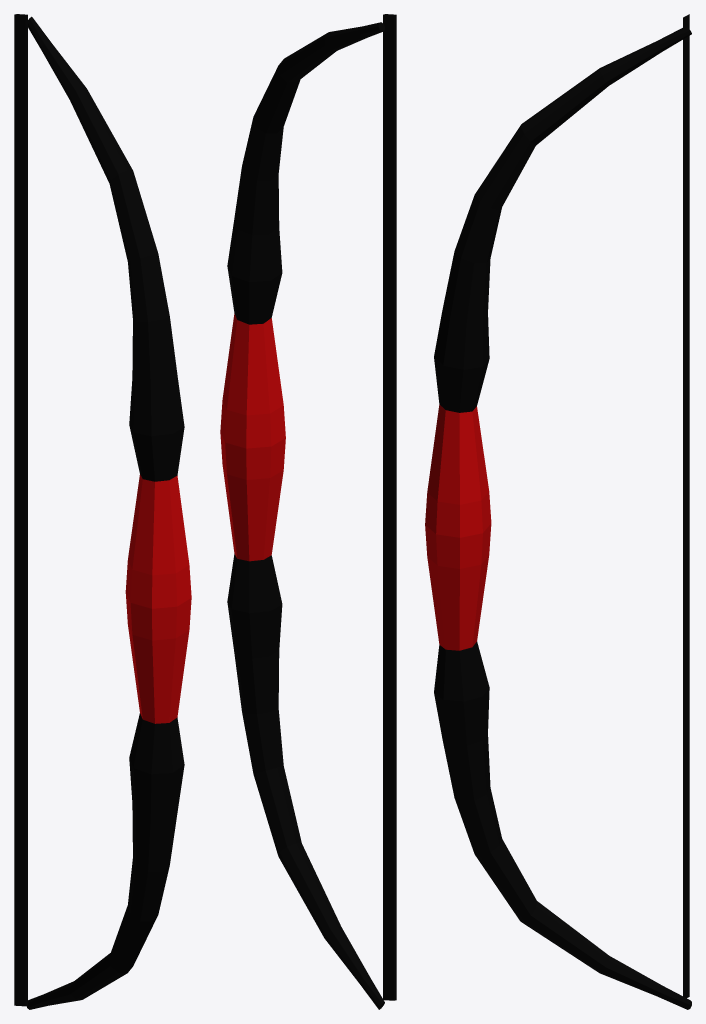
The model's file is arco224.fbx.
The picture shows the model from 3 angles, left to right: view 1: azimuth 30°, elevation 25°; view 2: azimuth 210°, elevation 25°; view 3: azimuth 270°, elevation 25°; orthographic projection.
Parts seen in each view (by area): view 1: Bow; view 2: Bow; view 3: Bow.
Boxes of the visible parts, box(x1,y1,x2,y2) form: Bow: box(14, 14, 191, 1009); Bow: box(220, 14, 396, 1009); Bow: box(425, 14, 691, 1009).
Bounding box in the file's own units: 9.4 × 154 × 37.66.
